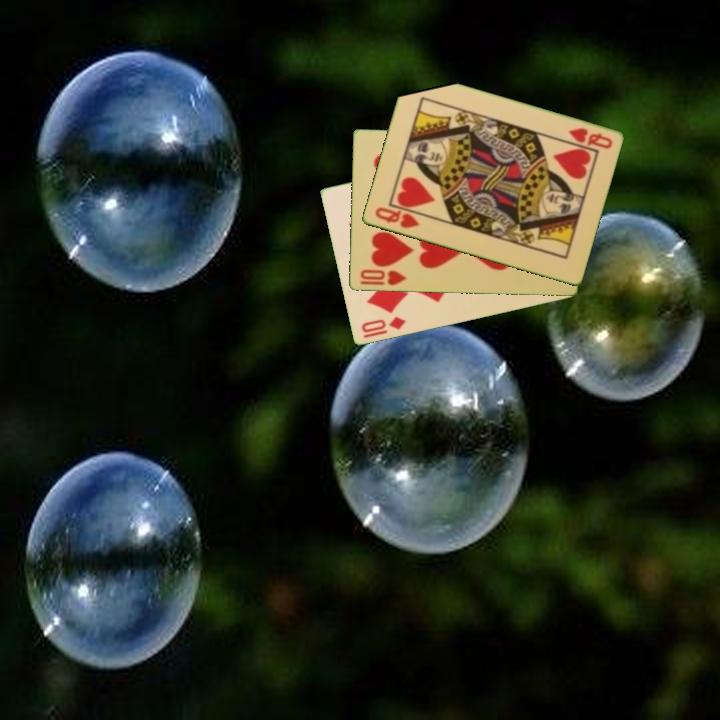10d: (358, 313, 409, 336)
10h: (356, 266, 409, 288)
Qh: (371, 204, 422, 232), (565, 124, 615, 152)
